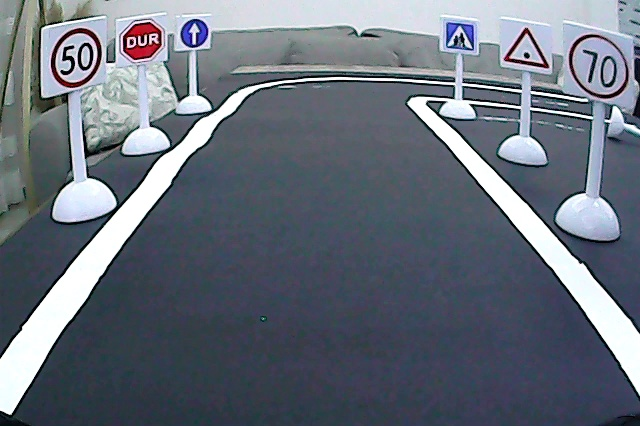green light: (501, 23, 552, 71)
school crossing: (443, 19, 477, 54)
speed limit 50: (47, 24, 103, 92)
speed limit 70: (566, 31, 632, 102)
stop sign: (118, 17, 167, 64)
